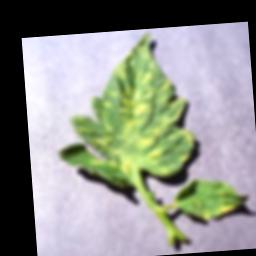Leaf_Mold: (50, 30, 200, 190), (218, 200, 238, 216)
